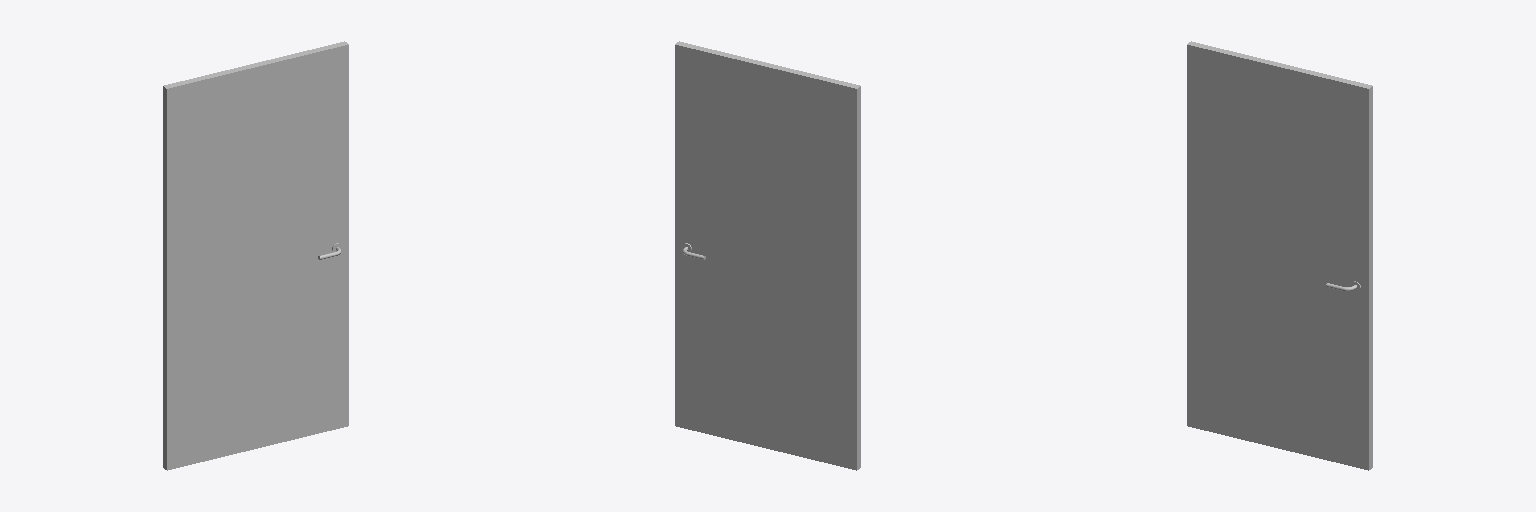
File: door_closed.obj
3 views of the same model, side by side, from view 1: azimuth 30°, elevation 25°; view 2: azimuth 150°, elevation 25°; view 3: azimuth 330°, elevation 25° (orthographic).
Visible parts, largest first — view 1: Cylinder.002; view 2: Cylinder.002; view 3: Cylinder.002.
Part boxes in pixels (bbox=[...]): Cylinder.002: bbox=[163, 41, 348, 470]; Cylinder.002: bbox=[675, 41, 860, 470]; Cylinder.002: bbox=[1187, 41, 1372, 470].
Bounding box in the file's own units: 1 × 2 × 0.1739.